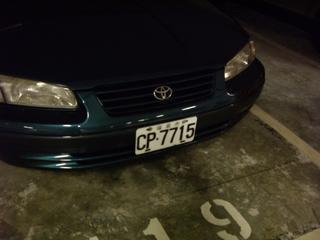plate: (134, 118, 198, 149)
